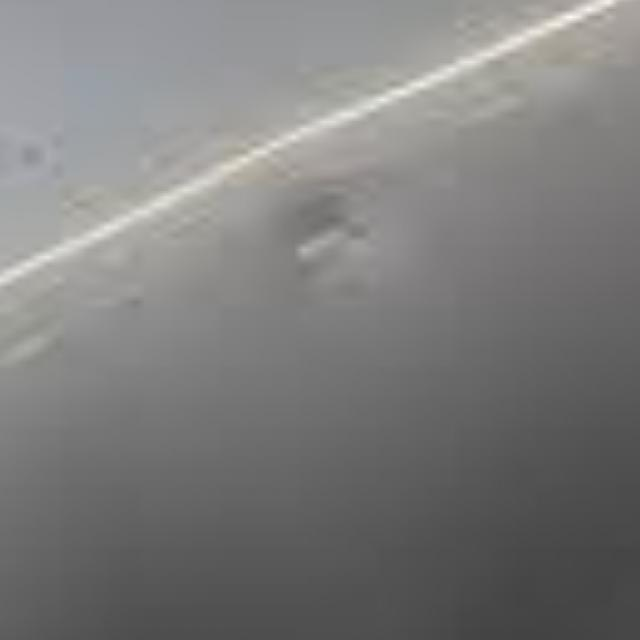dents: (290, 188, 398, 339)
